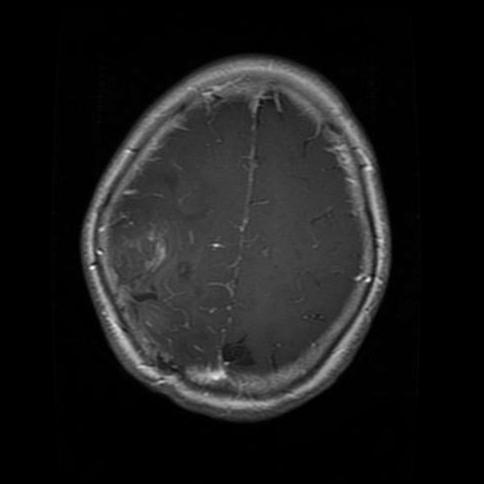Tumour-Glioma: (109, 209, 175, 299)
